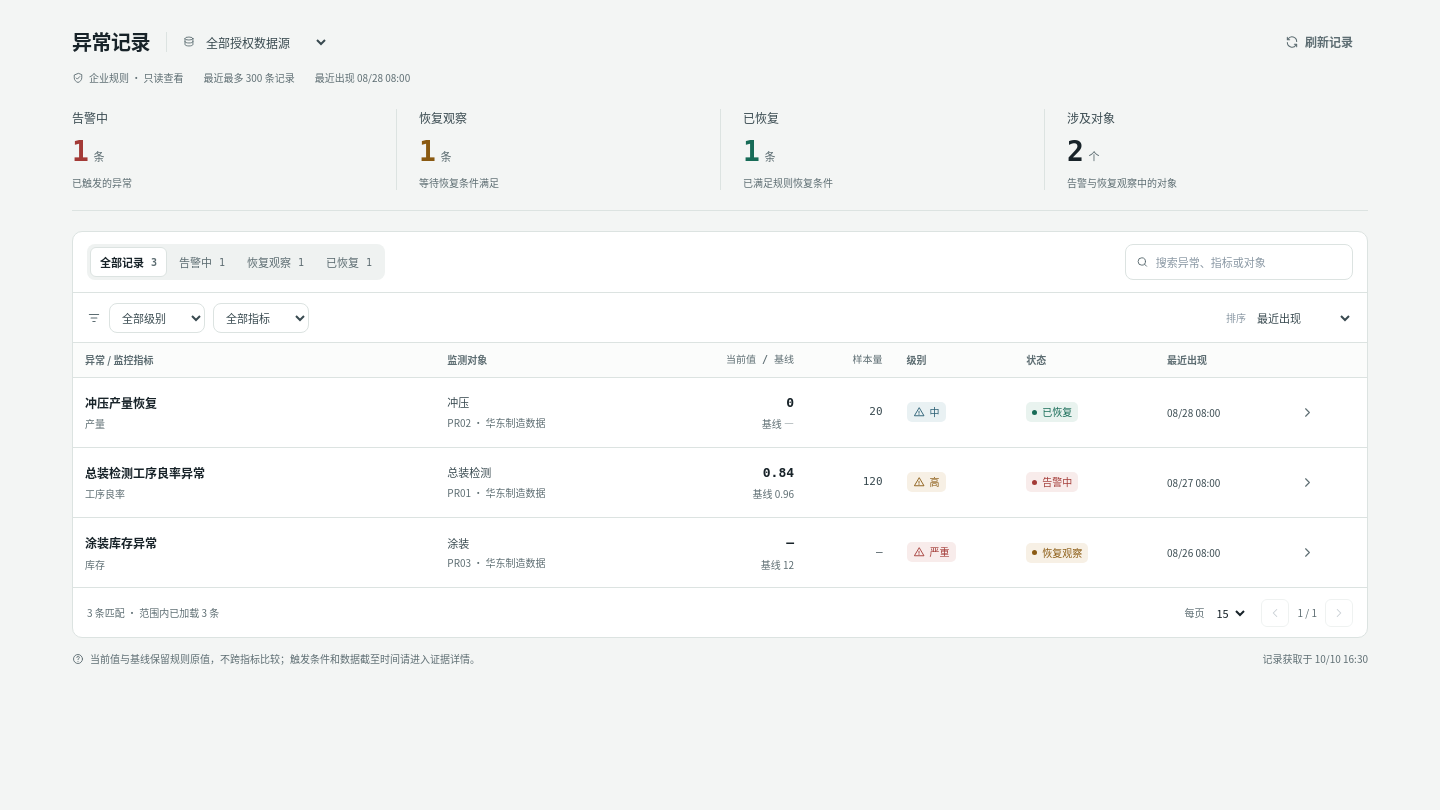
Test case: AlertsPage › filters locally without changing the scope summary
Expected: the table named "异常记录" is shown, [73,343,1367,587]
Click the button "已恢复 1". click: (349, 262)
box: [316,247,382,277]
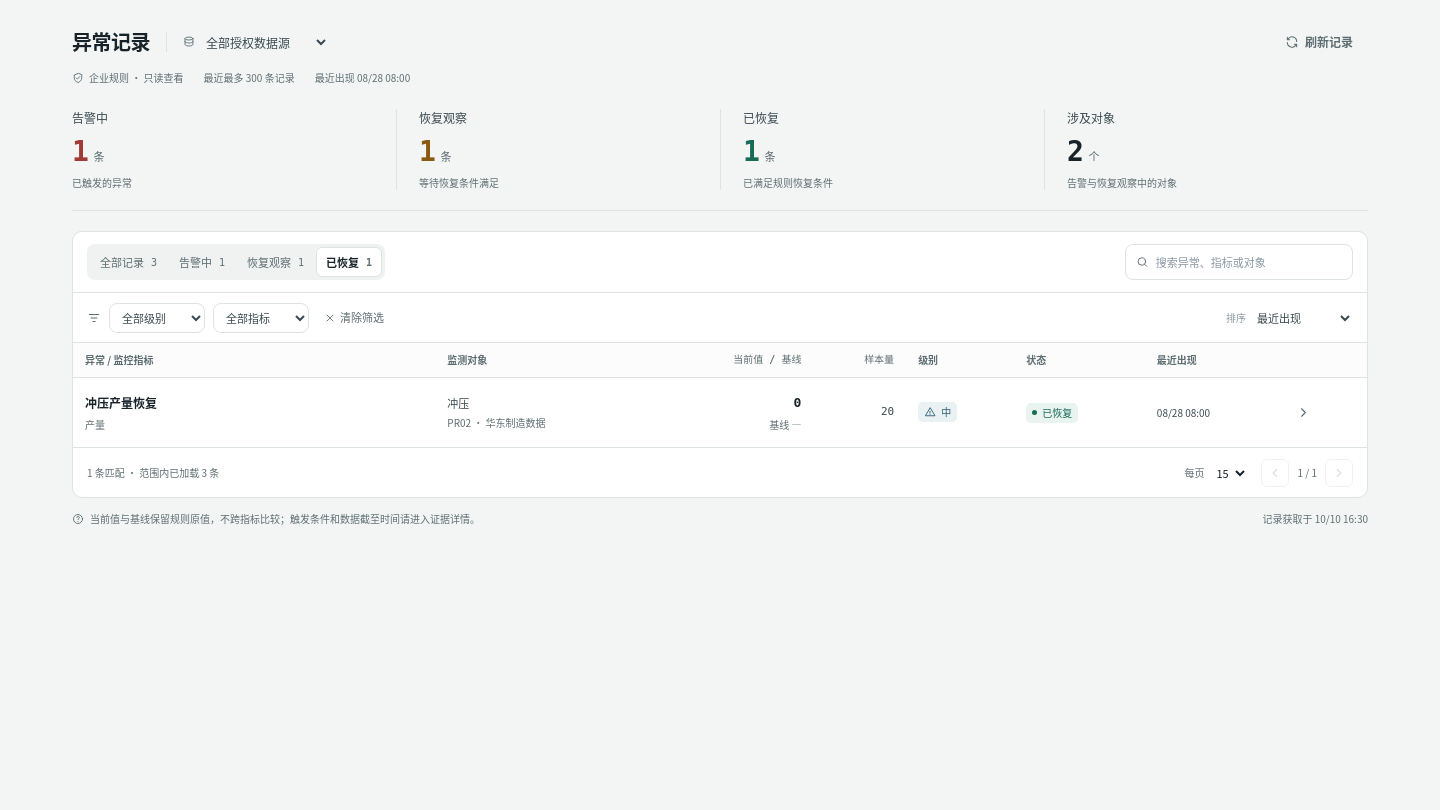
Expected: the link named "查看证据：冲压产量恢复" is shown, [1296,405,1311,420]
Result: the link "查看证据：总装检测工序良率异常" is gone
Type "不存在的工序" into the search field labelled "搜索异常". click: (1249, 262)
box: [1156,245,1342,279]
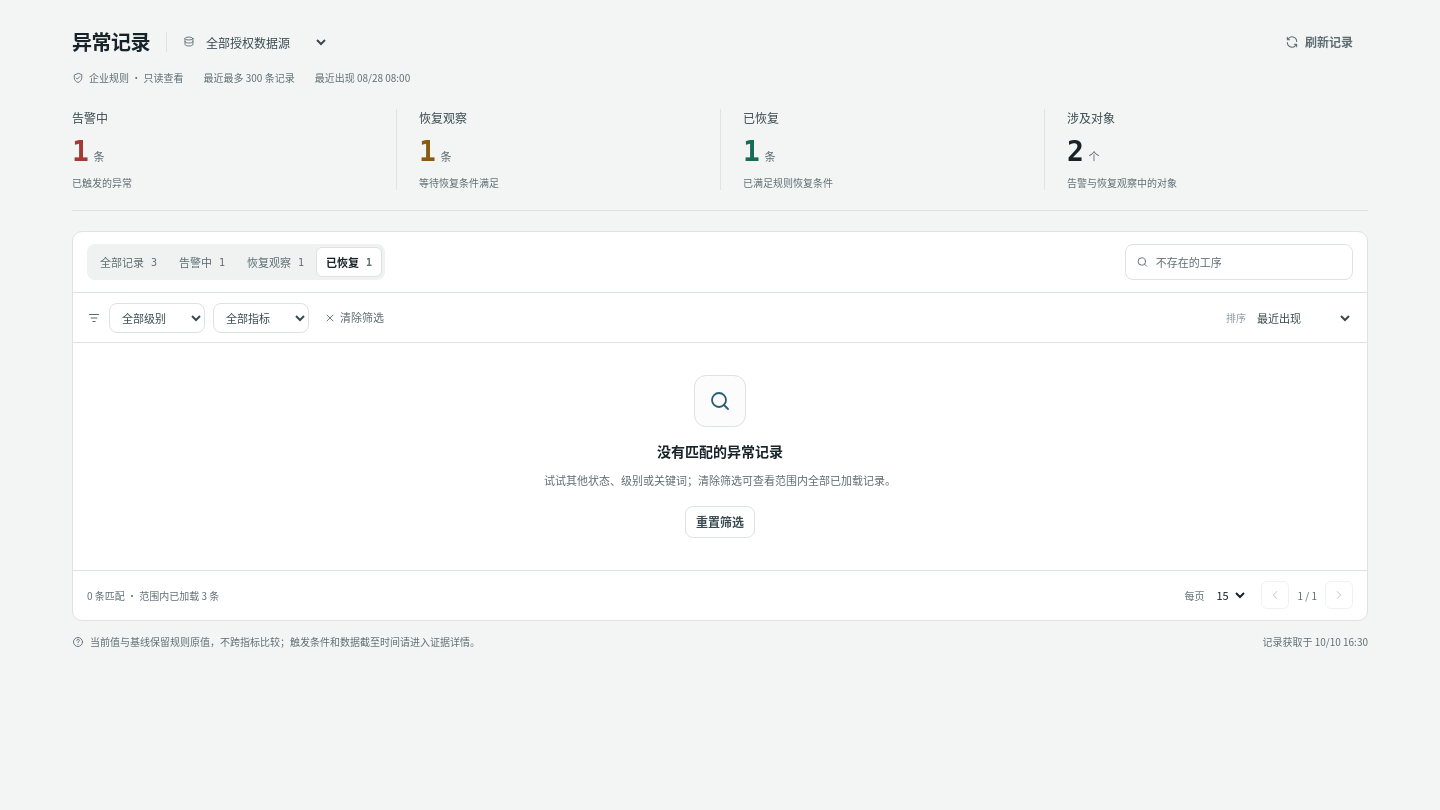
Result: the heading "没有匹配的异常记录" is shown at [657,441,783,462]
Click the button "清除筛选". click: (354, 318)
box: [317,304,391,331]
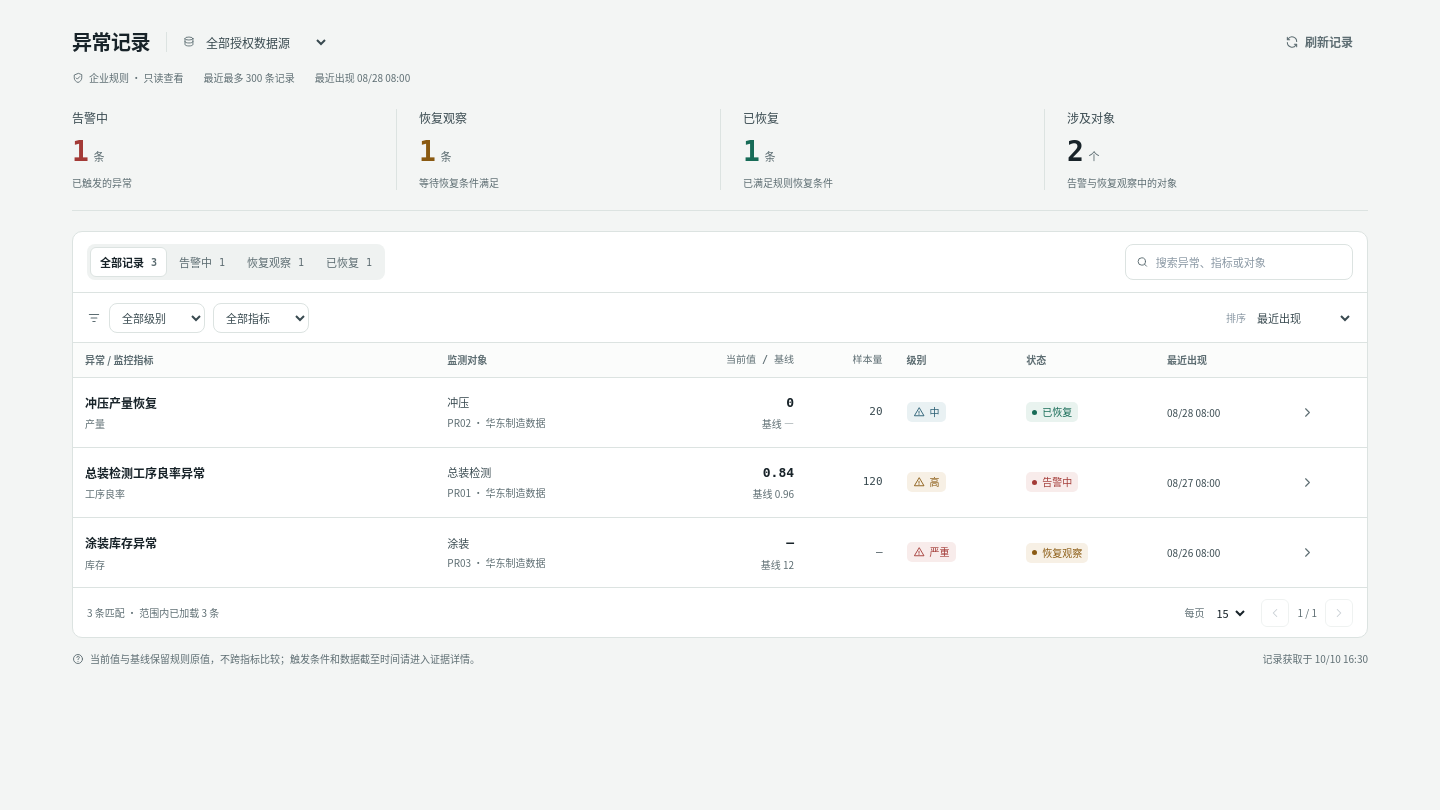
Result: the link named "查看证据：总装检测工序良率异常" is shown at [1300,475,1315,490]
